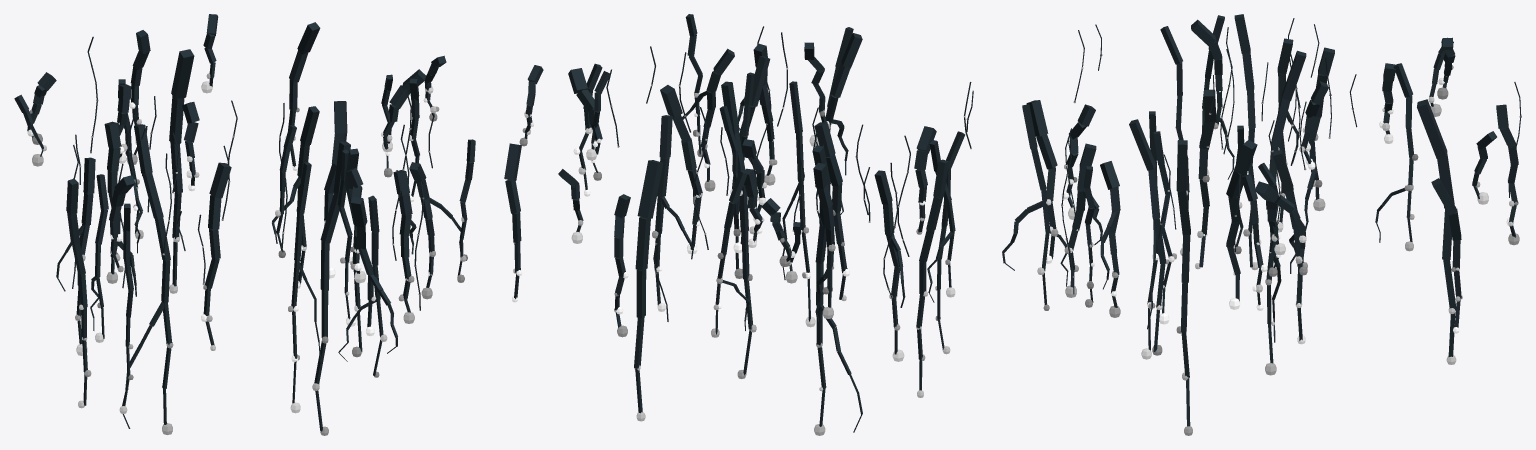
The model's file is root_curtain_a.glb.
The picture shows the model from 3 angles, left to right: view 1: azimuth 30°, elevation 25°; view 2: azimuth 150°, elevation 25°; view 3: azimuth 270°, elevation 25°; orthographic projection. The views are drawn at different scales.
Visible parts, largest first — view 1: root_curtain_a; view 2: root_curtain_a; view 3: root_curtain_a.
Part boxes in pixels (left/top/right/bottom): root_curtain_a: left=14, top=14, right=475, bottom=435; root_curtain_a: left=504, top=14, right=973, bottom=435; root_curtain_a: left=1002, top=14, right=1521, bottom=435.
Bounding box in the file's own units: 32.11 × 23.9 × 34.81.
2 materials, 1 textured.
